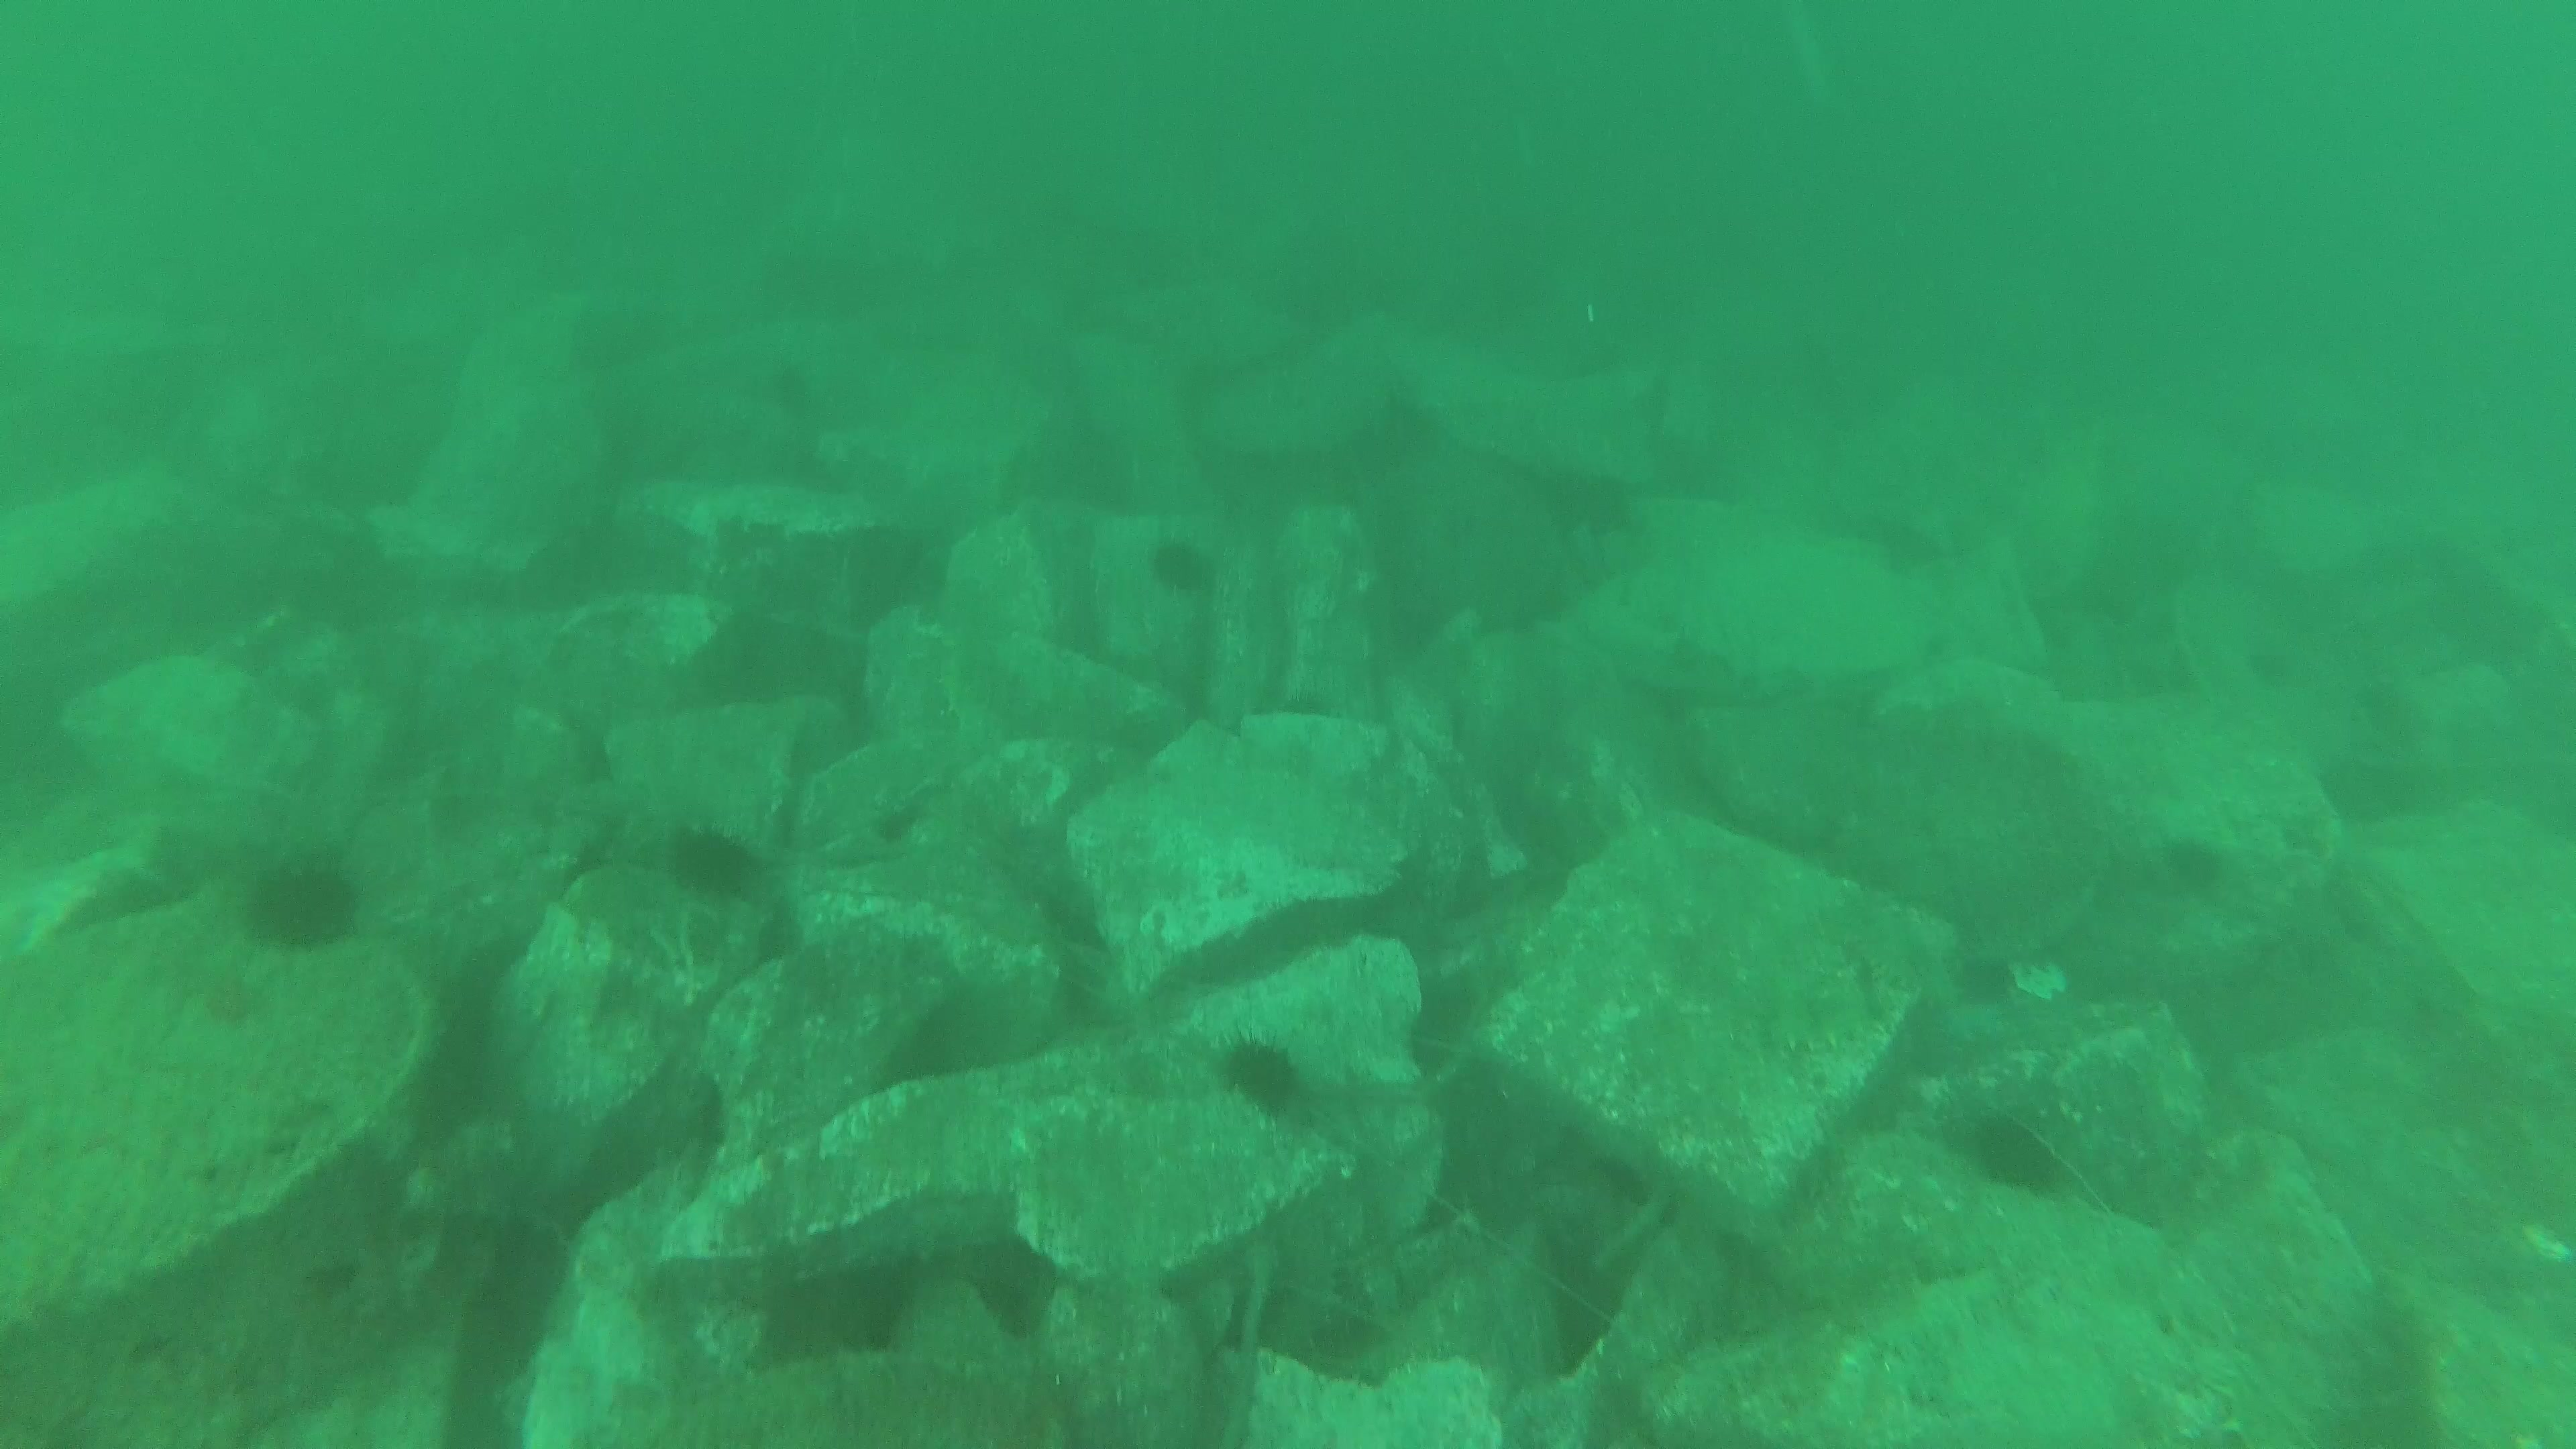echinus: (235, 851, 377, 957), (1959, 1102, 2082, 1201), (1210, 1021, 1316, 1127), (658, 821, 764, 902), (1139, 527, 1219, 603), (2166, 821, 2227, 902)
